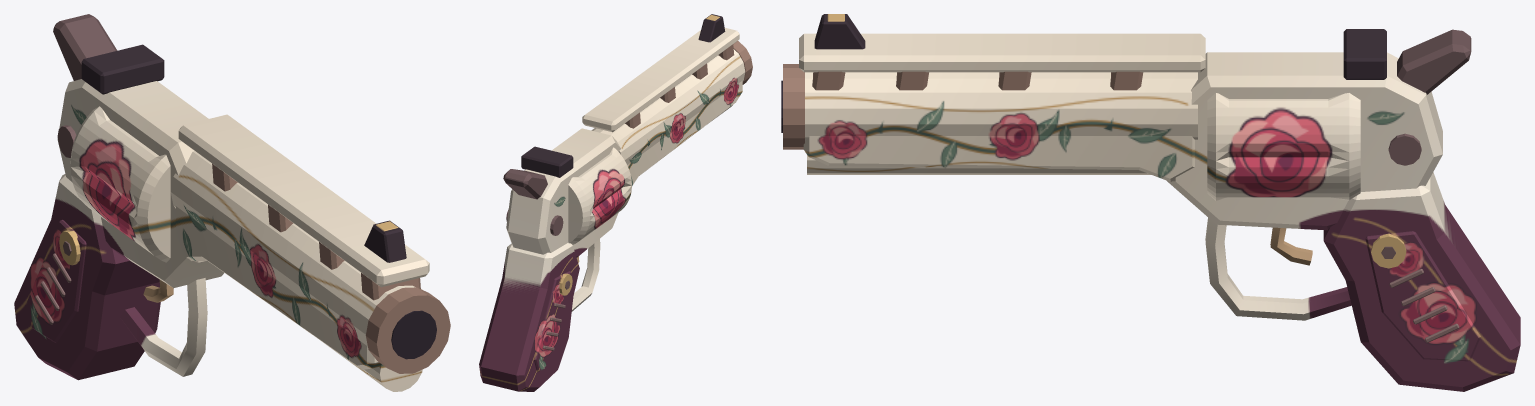
Rendered from Magnum_WildRose.glb.
The picture shows the model from 3 angles, left to right: view 1: azimuth 30°, elevation 25°; view 2: azimuth 150°, elevation 25°; view 3: azimuth 270°, elevation 25°; orthographic projection. The views are drawn at different scales.
Visible parts, largest first — view 1: Main, Cylinder, Hammer; view 2: Main, Cylinder, Hammer; view 3: Main, Cylinder, Hammer.
Part boxes in pixels (left/top/right/bottom): Main: left=14, top=44, right=450, bottom=391; Cylinder: left=70, top=106, right=170, bottom=262; Hammer: left=53, top=14, right=117, bottom=80; Main: left=479, top=14, right=752, bottom=391; Cylinder: left=568, top=147, right=631, bottom=244; Hammer: left=503, top=169, right=547, bottom=199; Main: left=781, top=14, right=1520, bottom=391; Cylinder: left=1207, top=93, right=1360, bottom=200; Hammer: left=1397, top=29, right=1471, bottom=94.
Size of the model in its own units: 0.45 by 1.28 by 2.38.
1 material, 1 textured.
